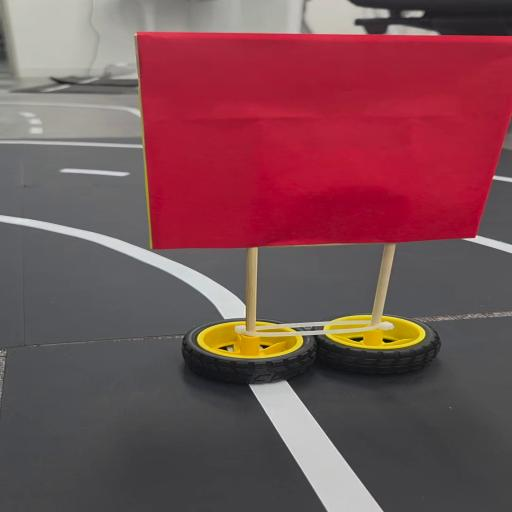Sign_A: (117, 30, 512, 382)
